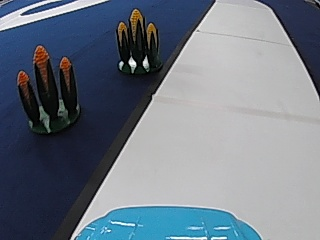corn: (17, 46, 83, 134), (113, 5, 163, 75)
